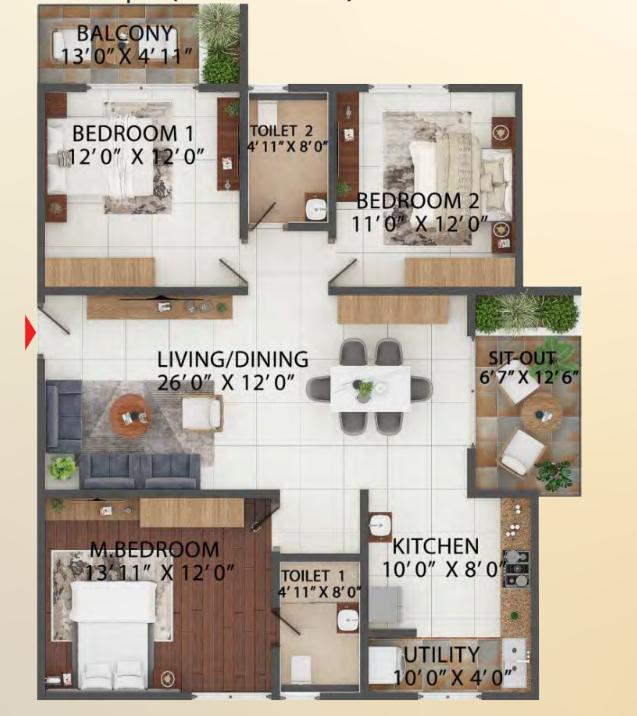Balcony: (470, 295, 583, 499), (35, 7, 249, 94)
Bed: (37, 117, 177, 208), (397, 139, 514, 230), (72, 580, 162, 687)
Bedroom: (44, 499, 276, 687), (37, 97, 246, 287), (330, 87, 521, 287)
Dining Room: (289, 290, 475, 505)
Dining table: (312, 344, 431, 437)
Kitchen: (364, 495, 542, 641)
Living Room: (37, 295, 288, 491)
Sofa: (137, 454, 205, 494), (77, 452, 144, 490), (498, 429, 545, 476), (495, 359, 540, 404), (57, 384, 86, 441), (53, 25, 92, 64), (182, 396, 222, 430)
Wardrobe: (46, 257, 155, 287), (406, 257, 513, 287), (338, 296, 448, 324), (140, 498, 243, 527)
commode: (291, 656, 312, 683), (257, 101, 278, 125)
fridge: (369, 586, 404, 622)
kitchen-slab: (502, 496, 538, 635)
sink: (499, 643, 527, 687), (303, 192, 331, 221), (367, 512, 394, 540), (368, 512, 392, 542), (337, 603, 359, 633)
stove: (504, 547, 529, 585)
toilet: (277, 562, 365, 691), (244, 94, 331, 220)
tv: (89, 293, 232, 318)
utility: (357, 640, 534, 702)
washing-machine: (368, 646, 402, 681)
